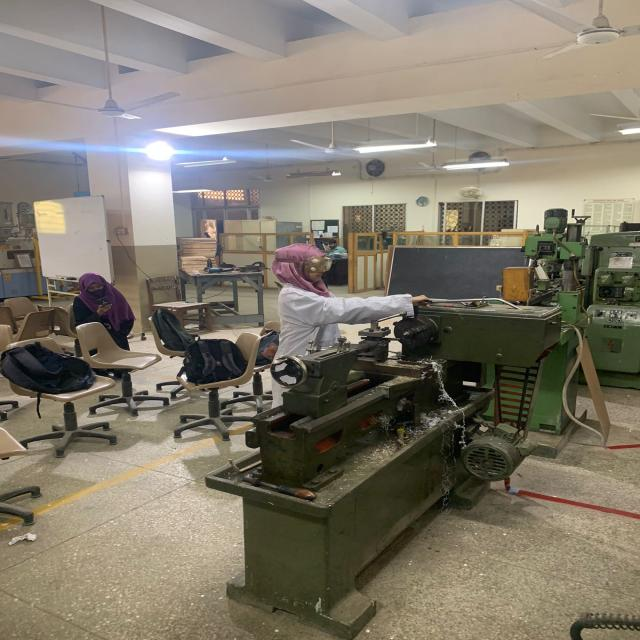googles: (308, 256, 333, 273)
labcoat: (269, 280, 417, 410)
